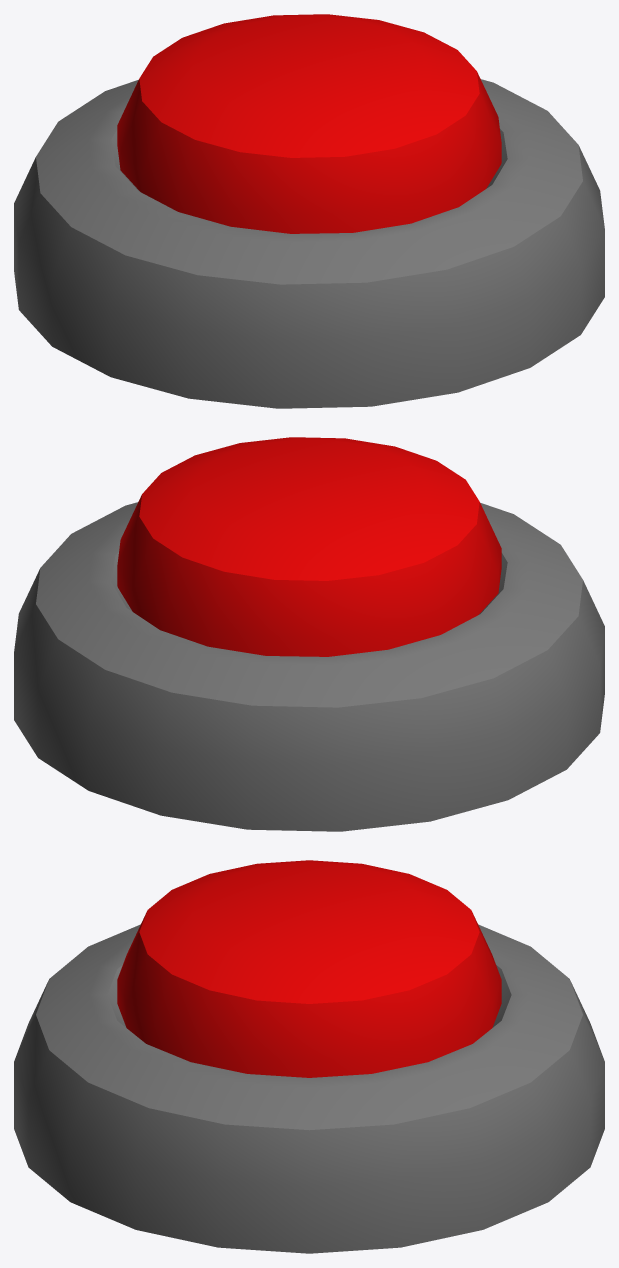
The model's file is ButtonGeneric.fbx.
3 renders of one model, top to bottom at view 1: azimuth 30°, elevation 25°; view 2: azimuth 150°, elevation 25°; view 3: azimuth 270°, elevation 25°, orthographic.
Parts seen in each view (by area): view 1: buttonCase, button; view 2: buttonCase, button; view 3: buttonCase, button.
Boxes of the visible parts, bbox=[...] form: buttonCase: bbox=[14, 79, 604, 408]; button: bbox=[117, 14, 501, 233]; buttonCase: bbox=[14, 502, 604, 831]; button: bbox=[117, 437, 501, 656]; buttonCase: bbox=[14, 924, 604, 1253]; button: bbox=[117, 860, 501, 1077].
Size of the model in its own units: 2 by 0.8078 by 2.
